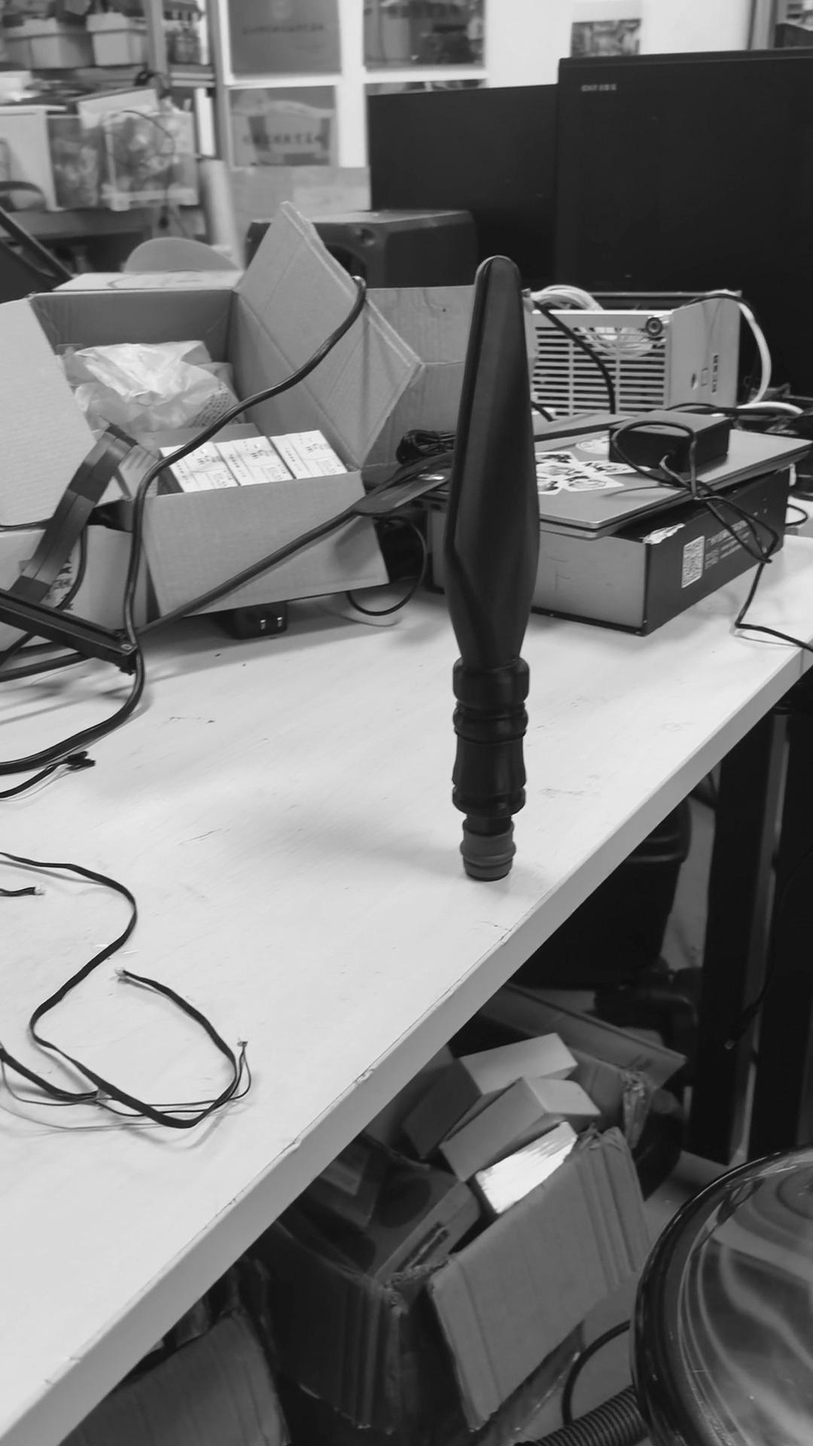base: (454, 821, 525, 888)
